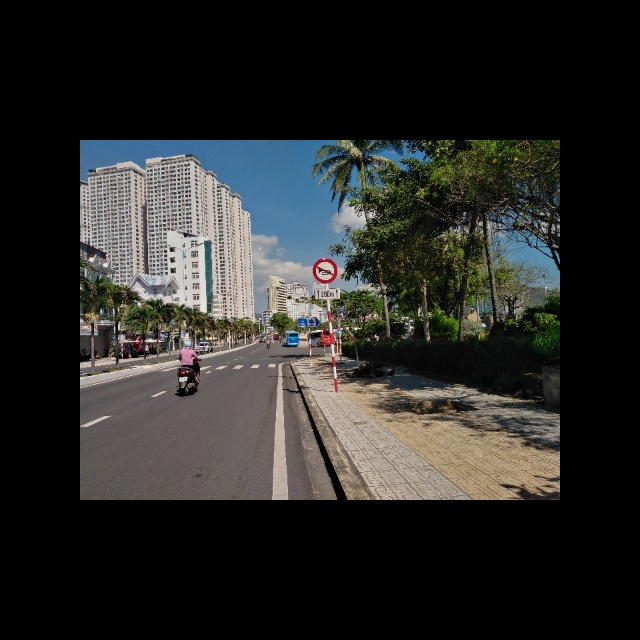Cấm bấm còi: (312, 258, 337, 283)
